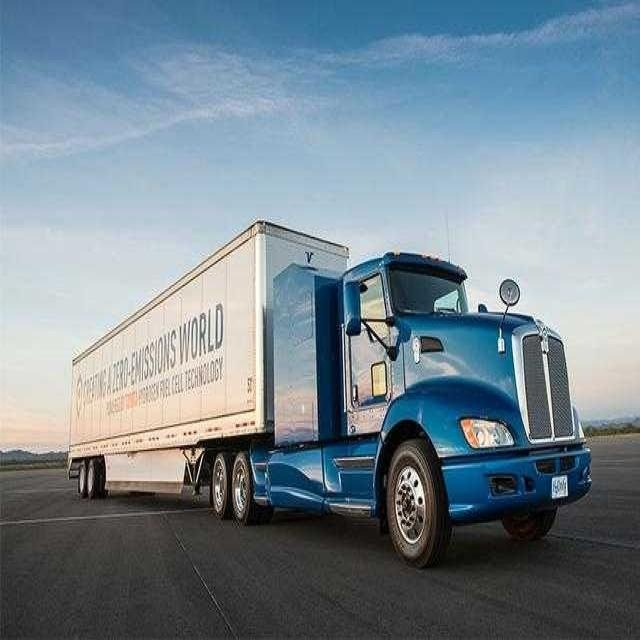Truck: (63, 212, 596, 573)
